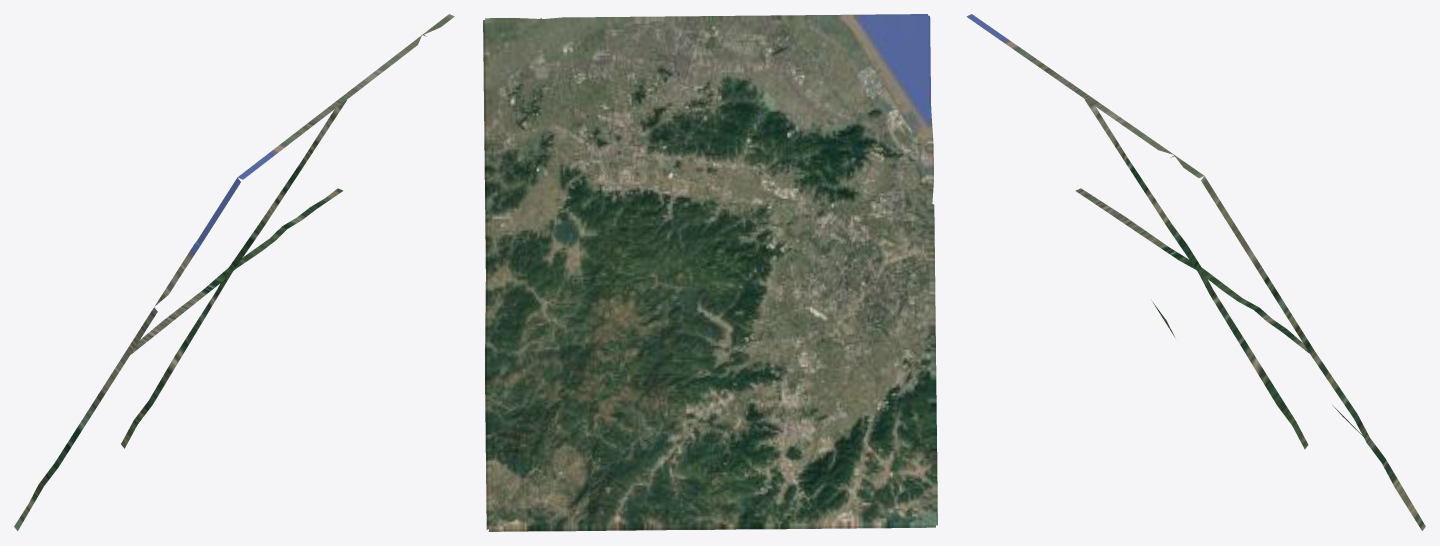
The picture shows the model from 3 angles, left to right: view 1: azimuth 30°, elevation 25°; view 2: azimuth 150°, elevation 25°; view 3: azimuth 270°, elevation 25°; orthographic projection.
Bounding box in the file's own units: 79179 × 68629 × 69585.
1 material, 1 textured.
